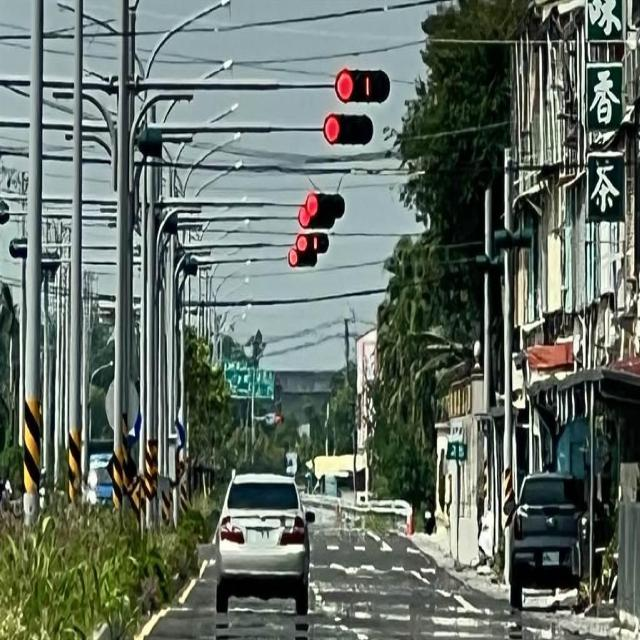red light: (336, 68, 392, 102), (323, 112, 373, 148), (306, 192, 346, 220), (300, 204, 336, 228), (288, 248, 318, 268), (295, 235, 329, 252)
